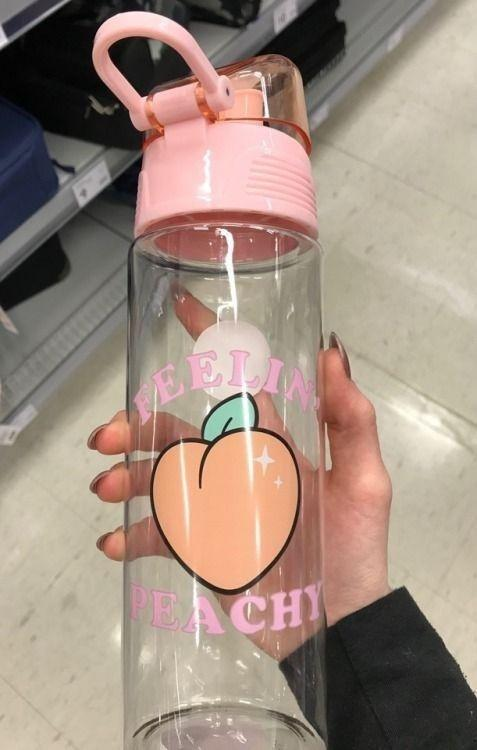gym bottle: (92, 11, 335, 749)
